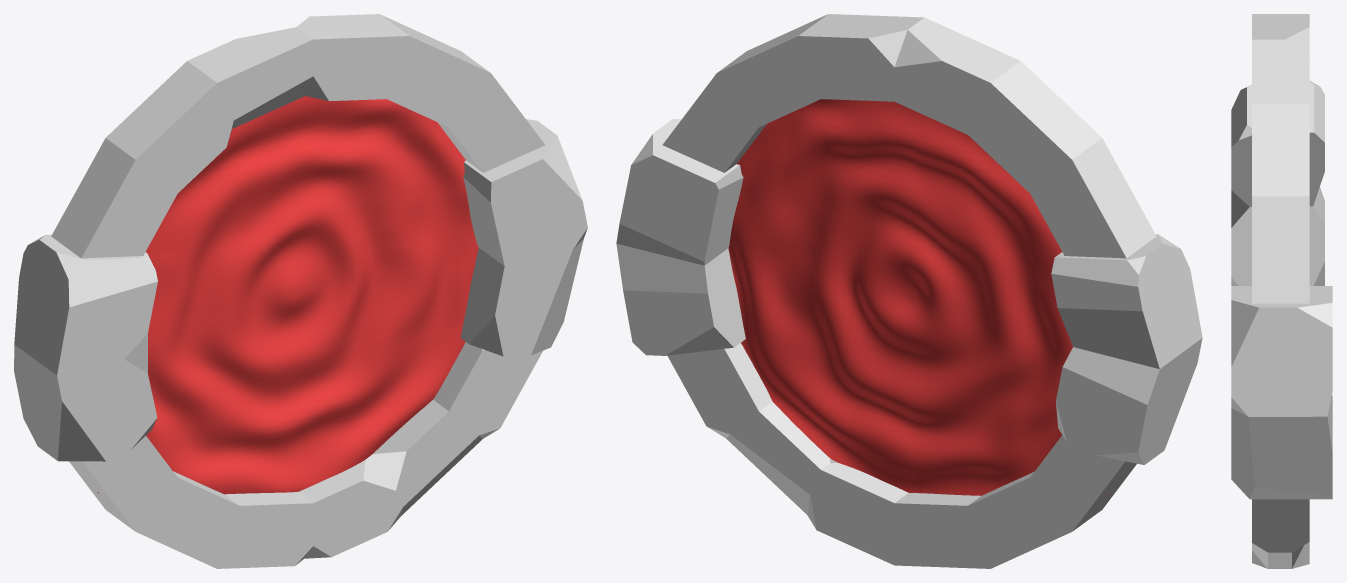
File: ring.fbx
3 views of the same model, side by side, from view 1: azimuth 30°, elevation 25°; view 2: azimuth 150°, elevation 25°; view 3: azimuth 270°, elevation 25° (orthographic). The views are drawn at different scales.
Visible parts, largest first — view 1: Portal.002, Ring, Ring.001; view 2: Portal.002, Ring, Ring.001; view 3: Ring.001, Ring.
Part boxes in pixels (x1,y1,x2,y2): Portal.002: (97,96,478,494); Ring: (51,14,544,568); Ring.001: (14,119,587,461); Portal.002: (728,99,1107,495); Ring: (662,14,1156,568); Ring.001: (616,119,1202,464); Ring.001: (1231,81,1332,499); Ring: (1252,14,1309,568).
Bounding box in the file's own units: 279 × 262 × 47.86.
